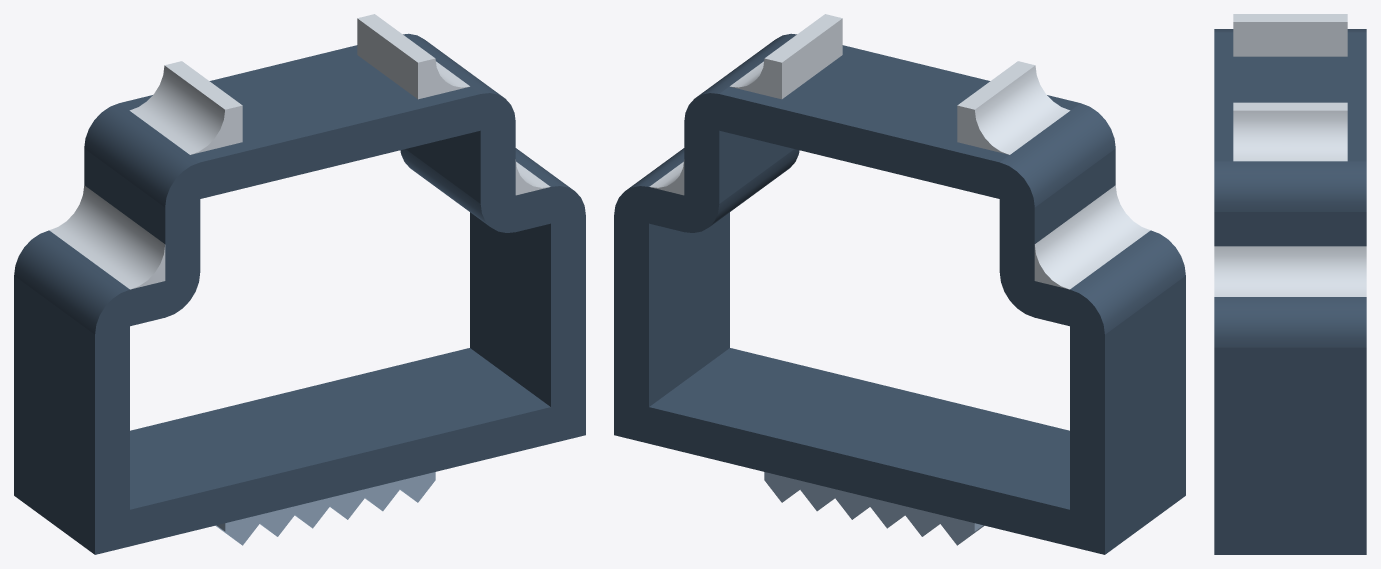
File: devilFaceTOP.glb
3 renders of one model, left to right at view 1: azimuth 30°, elevation 25°; view 2: azimuth 150°, elevation 25°; view 3: azimuth 270°, elevation 25°, orthographic. The views are drawn at different scales.
Parts seen in each view (by area): view 1: generated(Clone); view 2: generated(Clone); view 3: generated(Clone).
Part boxes in pixels (bbox=[...]): generated(Clone): bbox=[14, 14, 585, 554]; generated(Clone): bbox=[614, 14, 1185, 554]; generated(Clone): bbox=[1214, 14, 1366, 554].
Size of the model in its own units: 14 by 12 by 4.
